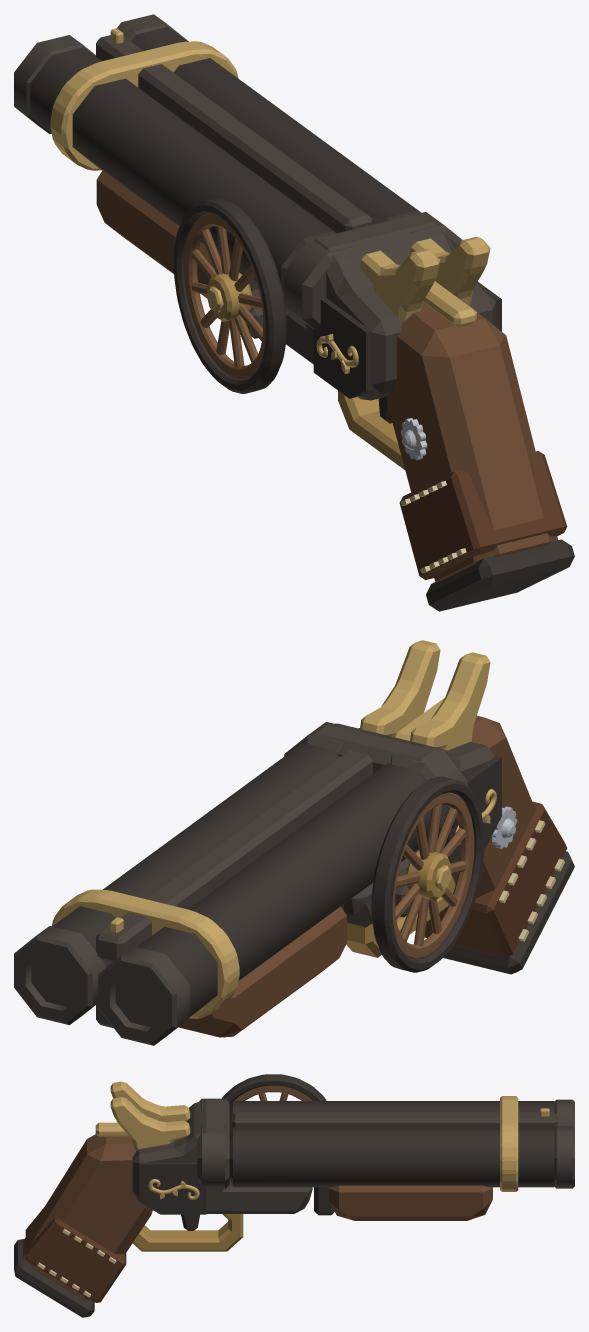
Rendered from w_sawnoff@sawnoff_dust.glb.
The picture shows the model from 3 angles, top to bottom: view 1: azimuth 30°, elevation 25°; view 2: azimuth 150°, elevation 25°; view 3: azimuth 270°, elevation 25°; orthographic projection. The views are drawn at different scales.
Parts seen in each view (by area): view 1: hinge_wzB, grip_wzA, body_wzA, hinge_wzB.001, grip_wzN.001, body_wzN.002, body_wzB, hinge_wzN, grip_wzN, forend_wzA, body_wzN.001, hammerL_wzN (+5 smaller); view 2: hinge_wzB, hinge_trim_wzN, hinge_wzB.001, body_wzN.002, body_wzB, grip_wzN.001, forend_wzA, body_wzA, hinge_wzN, grip_wzA, hammerL_wzN, hammerR_wzN (+6 smaller); view 3: hinge_wzB, grip_wzA, body_wzA, forend_wzA, hinge_wzB.001, grip_wzN.001, body_wzN.001, body_wzN.003, hammerR_wzN, hinge_trim_wzN, hinge_wzN, grip_wzN (+6 smaller).
Boxes of the visible parts, x1=… form: hinge_wzB: x1=30, y1=27, x2=420, y2=297; grip_wzA: x1=387, y1=301, x2=557, y2=582; body_wzA: x1=246, y1=212, x2=496, y2=400; hinge_wzB.001: x1=96, y1=35, x2=372, y2=233; grip_wzN.001: x1=399, y1=451, x2=567, y2=579; body_wzN.002: x1=184, y1=214, x2=265, y2=379; body_wzB: x1=174, y1=198, x2=286, y2=393; hinge_wzN: x1=50, y1=41, x2=238, y2=170; grip_wzN: x1=426, y1=539, x2=574, y2=611; forend_wzA: x1=96, y1=170, x2=220, y2=298; body_wzN.001: x1=313, y1=282, x2=501, y2=423; hammerL_wzN: x1=360, y1=249, x2=440, y2=321; hinge_wzB: x1=52, y1=743, x2=440, y2=1016; hinge_trim_wzN: x1=14, y1=926, x2=189, y2=1045; hinge_wzB.001: x1=96, y1=750, x2=372, y2=1028; body_wzN.002: x1=392, y1=792, x2=474, y2=958; body_wzB: x1=371, y1=776, x2=484, y2=972; grip_wzN.001: x1=424, y1=801, x2=567, y2=957; forend_wzA: x1=178, y1=906, x2=346, y2=1037; body_wzA: x1=284, y1=722, x2=494, y2=927; hinge_wzN: x1=52, y1=889, x2=239, y2=1018; grip_wzA: x1=451, y1=715, x2=556, y2=954; hammerL_wzN: x1=410, y1=652, x2=490, y2=750; hammerR_wzN: x1=360, y1=640, x2=440, y2=736; hinge_wzB: x1=229, y1=1101, x2=554, y2=1187; grip_wzA: x1=23, y1=1134, x2=152, y2=1299; body_wzA: x1=132, y1=1098, x2=312, y2=1213; forend_wzA: x1=329, y1=1185, x2=492, y2=1220; hinge_wzB.001: x1=232, y1=1112, x2=557, y2=1127; grip_wzN.001: x1=25, y1=1208, x2=126, y2=1302; body_wzN.001: x1=139, y1=1162, x2=206, y2=1230; body_wzN.003: x1=132, y1=1214, x2=243, y2=1251; hammerR_wzN: x1=110, y1=1097, x2=190, y2=1150; hinge_trim_wzN: x1=554, y1=1099, x2=574, y2=1188; hinge_wzN: x1=500, y1=1096, x2=518, y2=1191; grip_wzN: x1=14, y1=1239, x2=94, y2=1317.
Bounding box in the file's own units: 0.1319 × 0.2046 × 0.4856.
